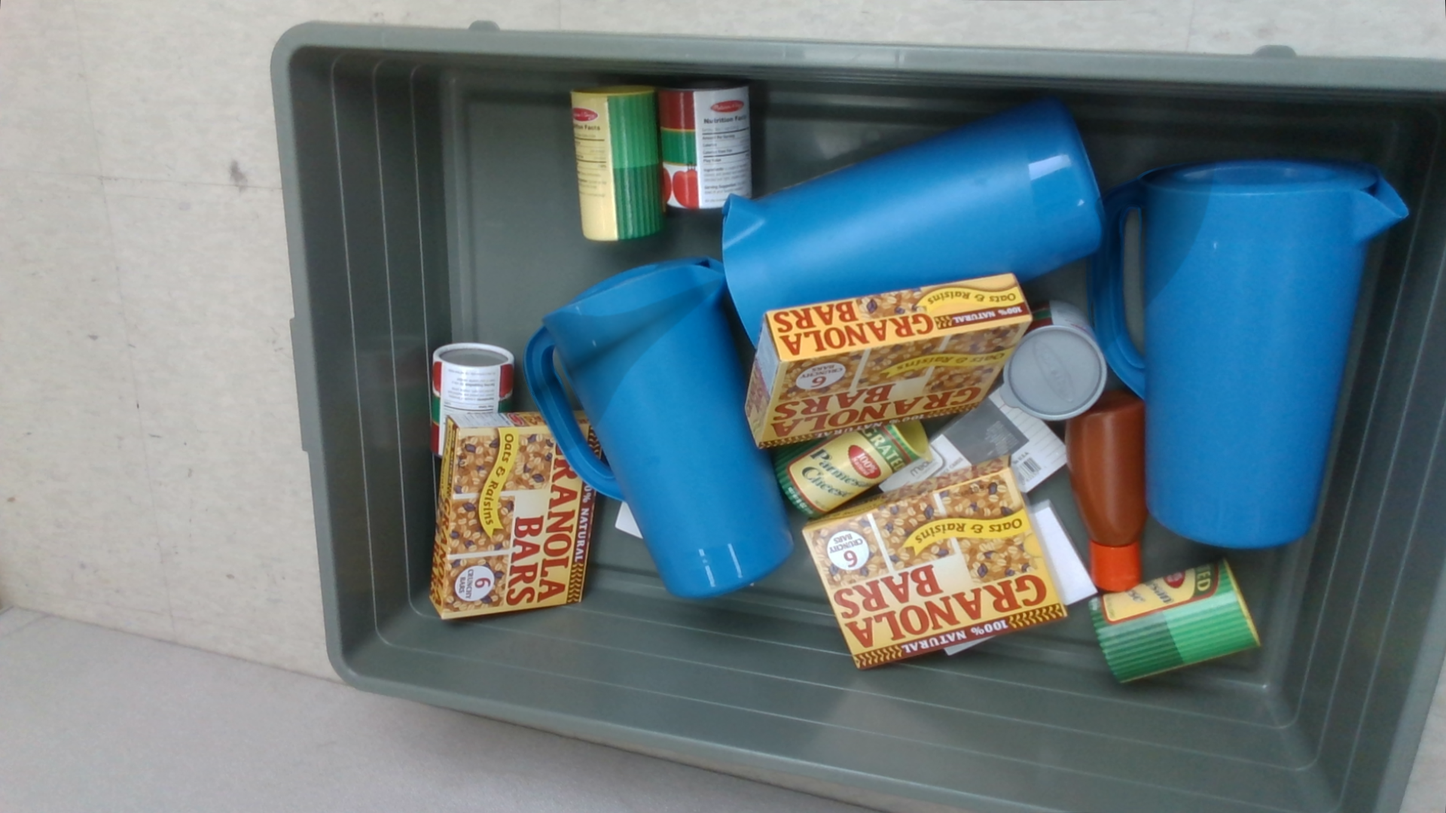defect: (523, 279, 721, 452), (1085, 161, 1216, 353)
